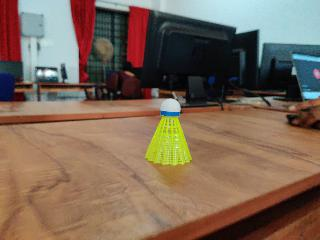shuttlecock: (143, 98, 191, 163)
